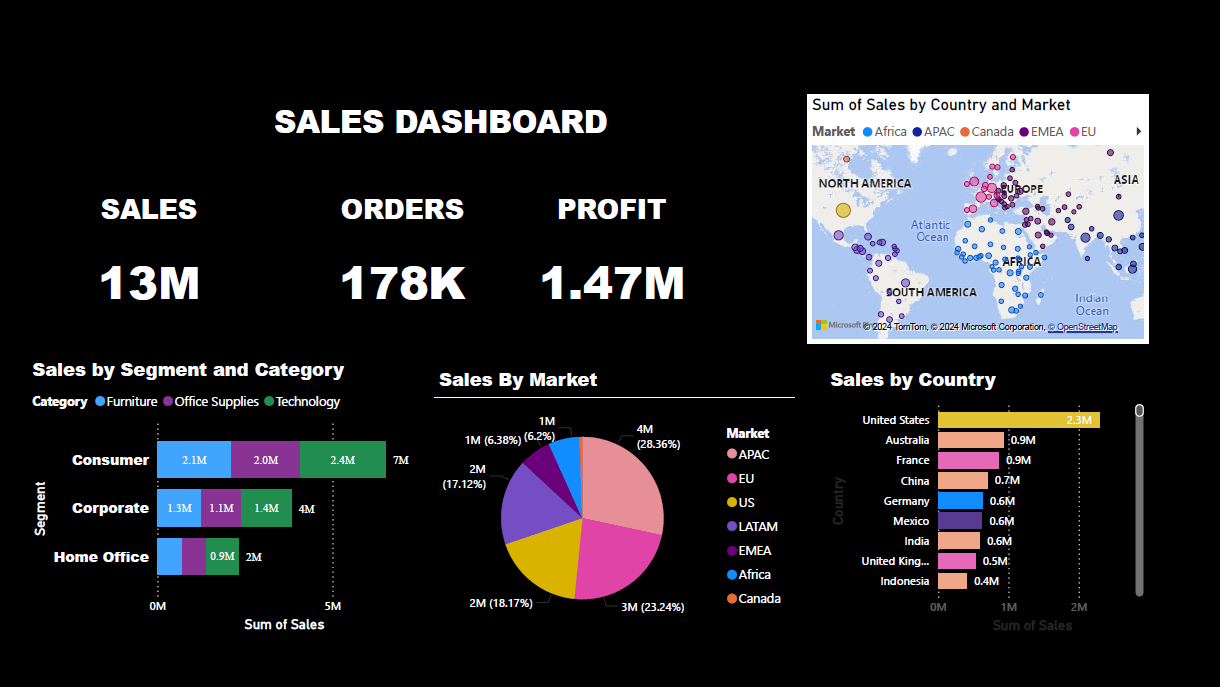

This screenshot's page, from the dashboard's own definition file:
{"tool":"powerbi","page":{"name":"Page 1","canvas":[1280,720],"ordinal":0},"visuals":[{"type":"card","title":"SALES ","fields":{"Values":["Sum(superstore data (1).Sales)"]},"box":[15.4,197.7,279.9,148.9],"z":0},{"type":"card","title":"PROFIT","fields":{"Values":["Sum(superstore data (1).Profit)"]},"box":[526.4,197.7,227.2,148.9],"z":1000},{"type":"card","title":"ORDERS","fields":{"Values":["Sum(superstore data (1).Quantity)"]},"box":[314.5,197.7,211.8,148.9],"z":2000},{"type":"barChart","title":"Sales by Segment and Category","fields":{"Y":["Sum(superstore data (1).Sales)"],"Category":["superstore data (1).Segment"],"Series":["superstore data (1).Category"]},"box":[28.2,372.3,416,294],"z":3000},{"type":"pieChart","title":"Sales By Market","fields":{"Y":["Sum(superstore data (1).Sales)"],"Category":["superstore data (1).Market"]},"box":[454.5,382.6,377.5,283.7],"z":4000},{"type":"map","fields":{"Size":["Sum(superstore data (1).Sales)"],"Category":["superstore data (1).Country"],"Series":["superstore data (1).Market"]},"box":[844.8,97.6,356.9,261.9],"z":5000},{"type":"barChart","title":"Sales by Country","fields":{"Y":["Sum(superstore data (1).Sales)"],"Category":["superstore data (1).Country"]},"box":[864,382.6,337.7,283.7],"z":6000},{"type":"textbox","box":[281.2,97.6,369.7,59.1],"z":7000}]}

Visuals, with their boxes in screenshot pixels (x1, y1, x2, y2), scaled from the page's 1280x720 canvas onto the 1220x687 screenshot:
"SALES " card: (x1=15, y1=189, x2=281, y2=331)
"PROFIT" card: (x1=502, y1=189, x2=718, y2=331)
"ORDERS" card: (x1=300, y1=189, x2=502, y2=331)
"Sales by Segment and Category" barChart: (x1=27, y1=355, x2=423, y2=636)
"Sales By Market" pieChart: (x1=433, y1=365, x2=793, y2=636)
map - Sum(superstore data (1).Sales) x superstore data (1).Country: (x1=805, y1=93, x2=1145, y2=343)
"Sales by Country" barChart: (x1=824, y1=365, x2=1145, y2=636)
textbox: (x1=268, y1=93, x2=620, y2=150)
